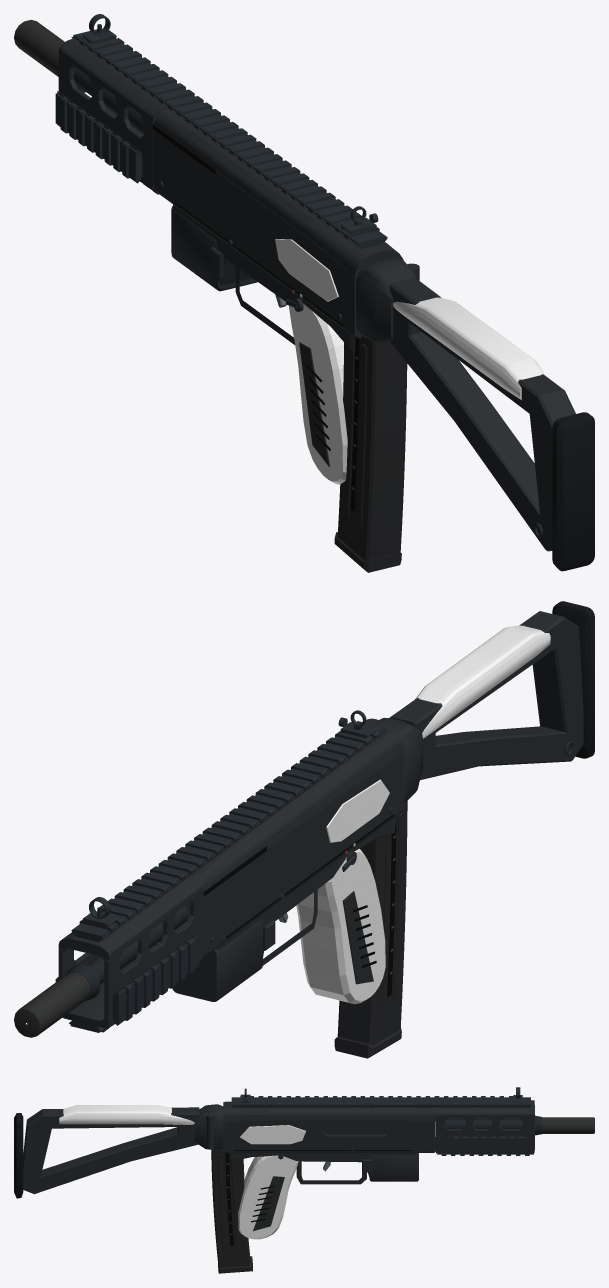
Rendered from weapon-81-SVkjZr5T.glb.
3 views of the same model, one above another, from view 1: azimuth 30°, elevation 25°; view 2: azimuth 150°, elevation 25°; view 3: azimuth 270°, elevation 25° (orthographic). The views are drawn at different scales.
Parts seen in each view (by area): view 1: salient_weapon_body, salient_weapon_stock, salient_weapon_magazine, salient_weapon_iron; view 2: salient_weapon_body, salient_weapon_stock, salient_weapon_magazine, salient_weapon_iron; view 3: salient_weapon_body, salient_weapon_stock, salient_weapon_magazine.
Boxes of the visible parts, bbox=[...] form: salient_weapon_body: bbox=[14, 20, 403, 484]; salient_weapon_stock: bbox=[356, 259, 594, 571]; salient_weapon_magazine: bbox=[334, 335, 407, 572]; salient_weapon_iron: bbox=[83, 14, 378, 234]; salient_weapon_body: bbox=[14, 721, 404, 1037]; salient_weapon_stock: bbox=[366, 601, 594, 802]; salient_weapon_magazine: bbox=[334, 800, 407, 1058]; salient_weapon_iron: bbox=[83, 710, 376, 927]; salient_weapon_body: bbox=[223, 1096, 594, 1239]; salient_weapon_stock: bbox=[14, 1104, 223, 1198]; salient_weapon_magazine: bbox=[211, 1149, 252, 1273].
Bounding box in the file's own units: 0.0446 × 0.2164 × 0.627.
19 materials, 4 textured.
